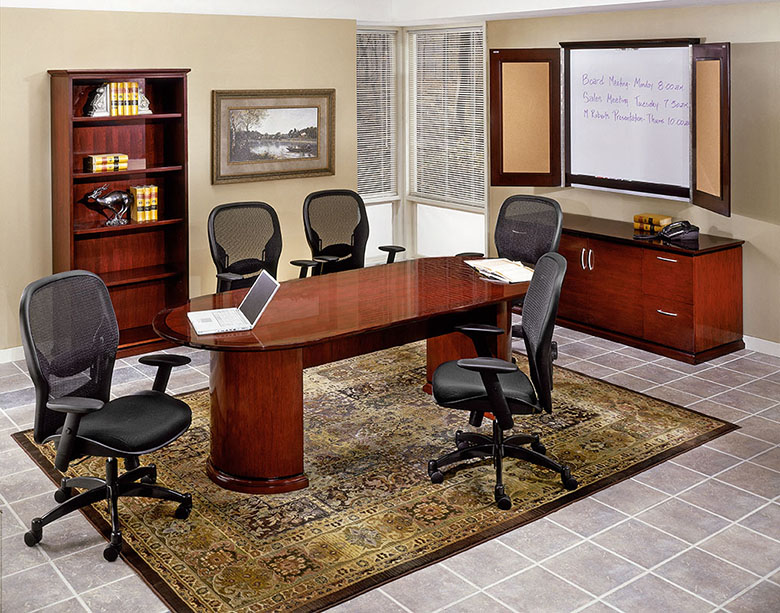conference_table: (154, 256, 553, 494)
